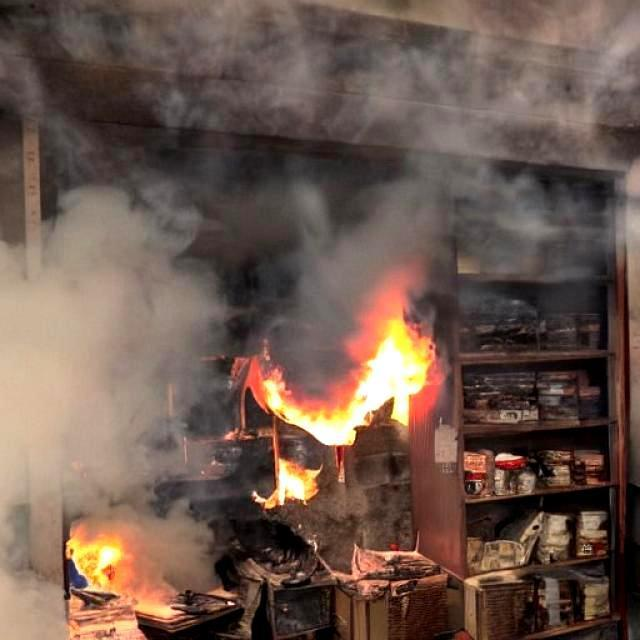Fire: (251, 326, 446, 441), (50, 534, 182, 622), (256, 459, 330, 511)
Smoke: (0, 0, 633, 316)
